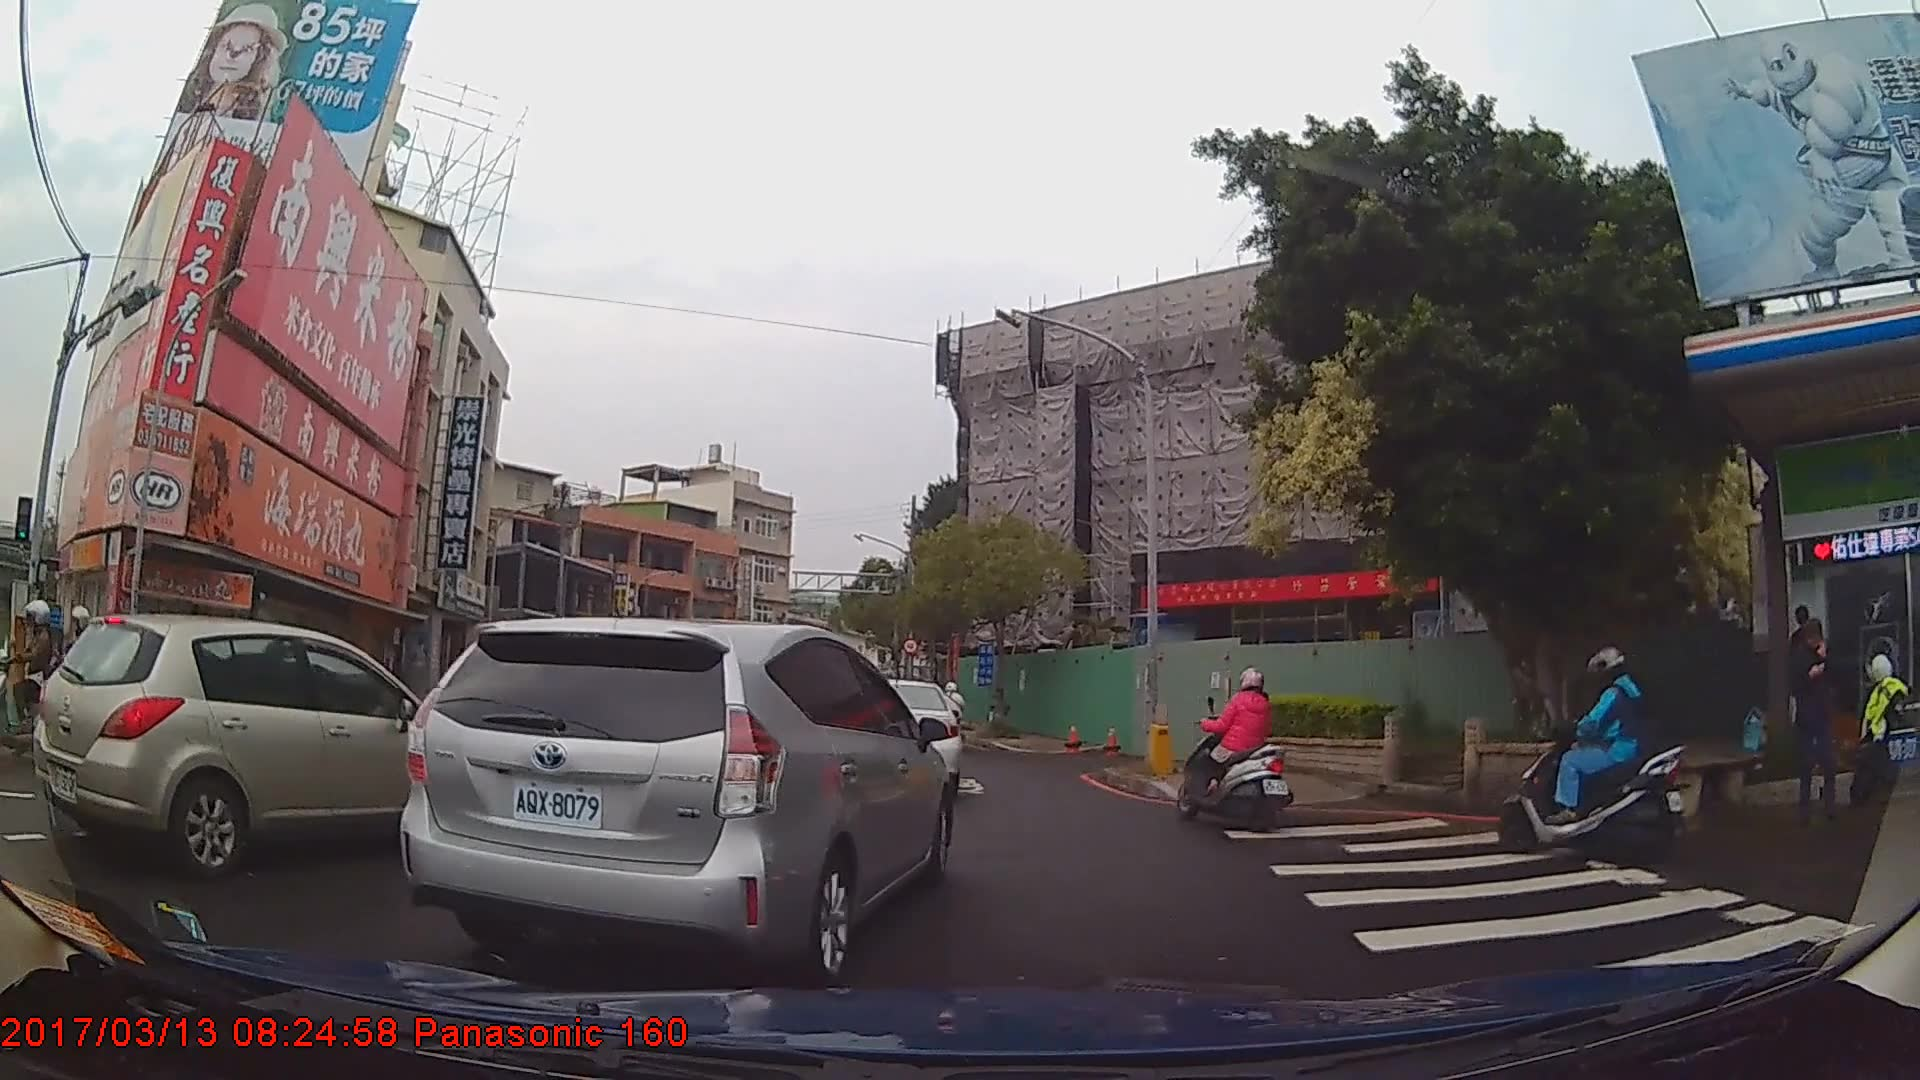pedestrian: (1785, 617, 1844, 802), (1785, 610, 1828, 744)
rider: (1498, 646, 1689, 860), (1179, 668, 1296, 836), (944, 682, 967, 753)
vehicle: (395, 612, 957, 983), (32, 606, 483, 874)
